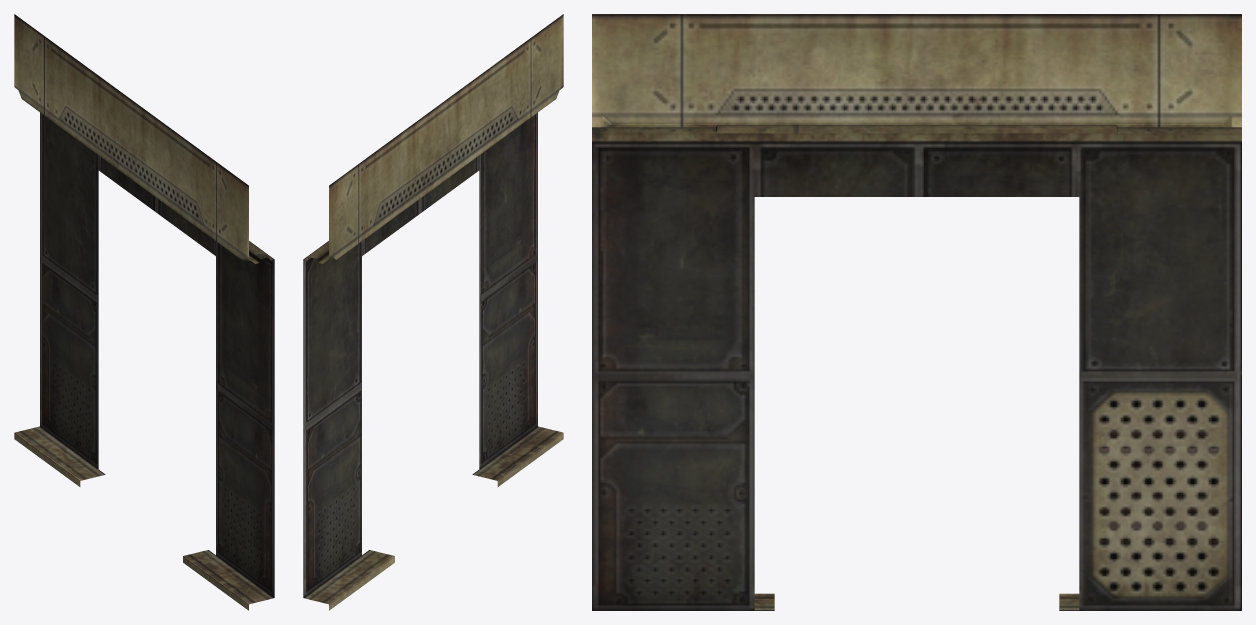
The model's file is pplant_ground_doorway_large.dae.
3 views of the same model, side by side, from view 1: azimuth 30°, elevation 25°; view 2: azimuth 150°, elevation 25°; view 3: azimuth 270°, elevation 25° (orthographic). The views are drawn at different scales.
Parts seen in each view (by area): view 1: ground_doorway_large; view 2: ground_doorway_large; view 3: ground_doorway_large.
Boxes of the visible parts, bbox=[...] form: ground_doorway_large: bbox=[14, 14, 274, 610]; ground_doorway_large: bbox=[303, 14, 563, 610]; ground_doorway_large: bbox=[592, 14, 1241, 610].
Bounding box in the file's own units: 0.25 × 4 × 4.
